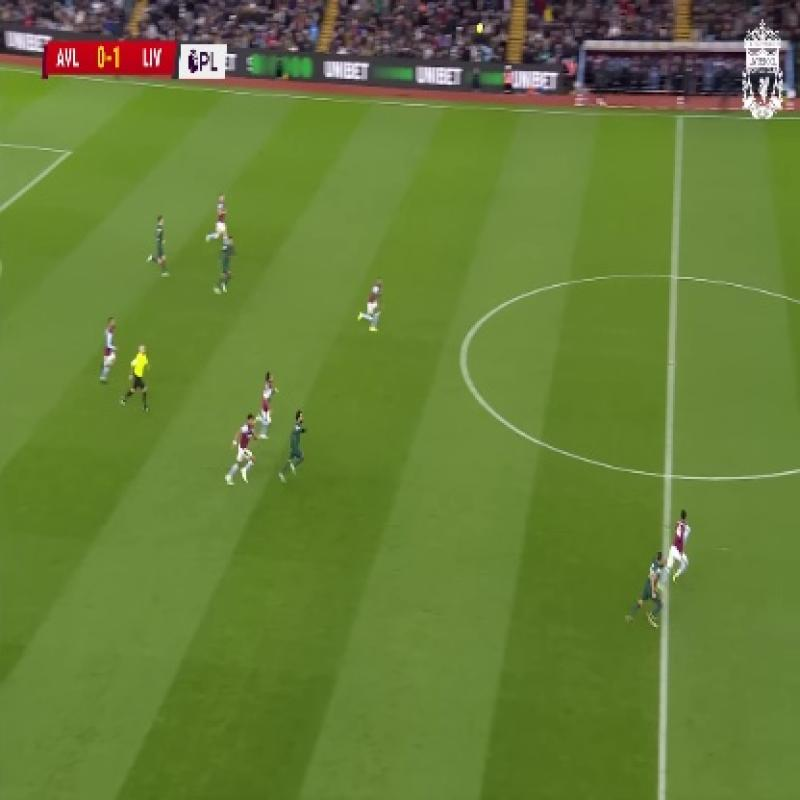13: (666, 100, 692, 133)
14: (656, 252, 692, 298)
15: (648, 446, 687, 502)
9: (56, 136, 79, 166)
c: (441, 327, 486, 373)
